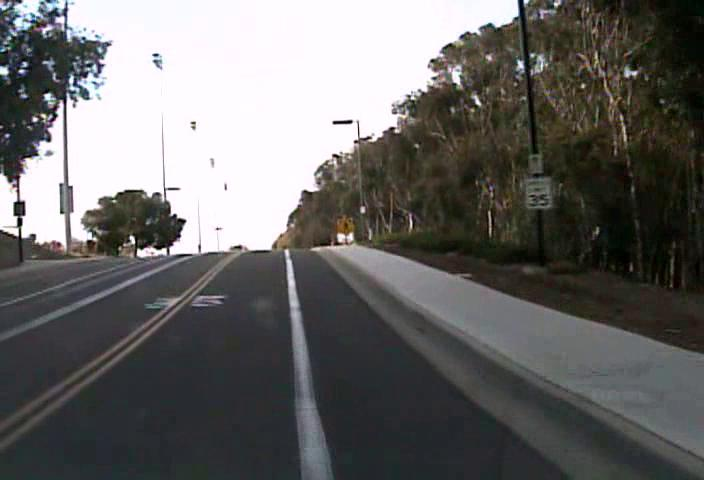speedLimit35: (524, 175, 553, 209)
